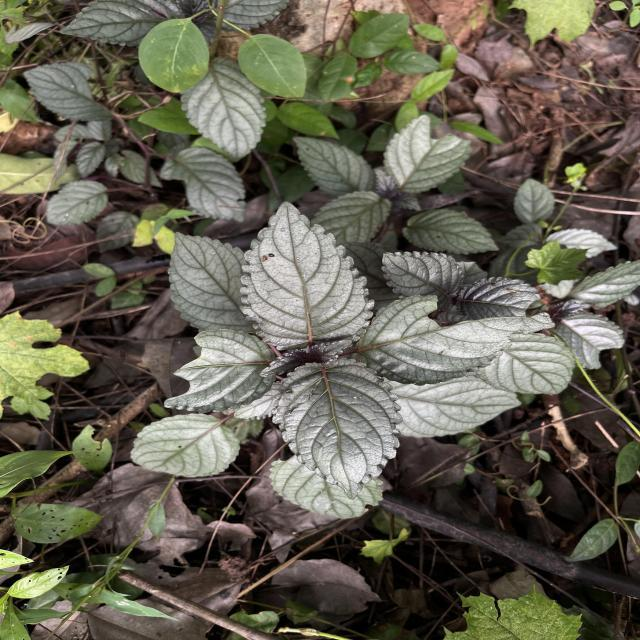Hemigraphis colorata: (237, 196, 378, 352), (268, 356, 406, 504), (356, 293, 557, 388), (166, 230, 262, 336), (128, 411, 244, 480), (378, 249, 466, 314), (455, 275, 543, 320)
